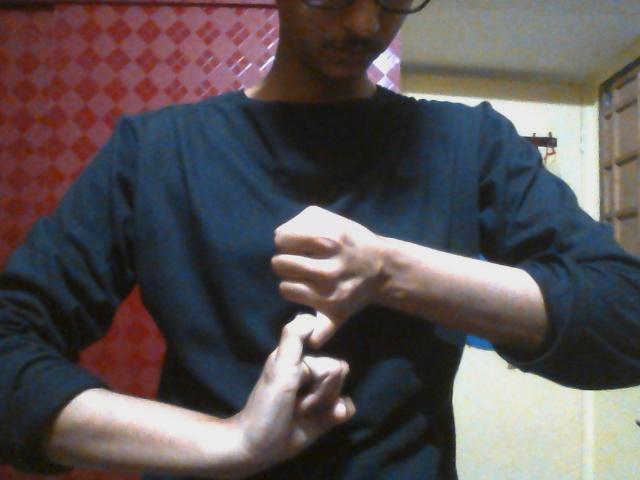S: (242, 204, 391, 463)
